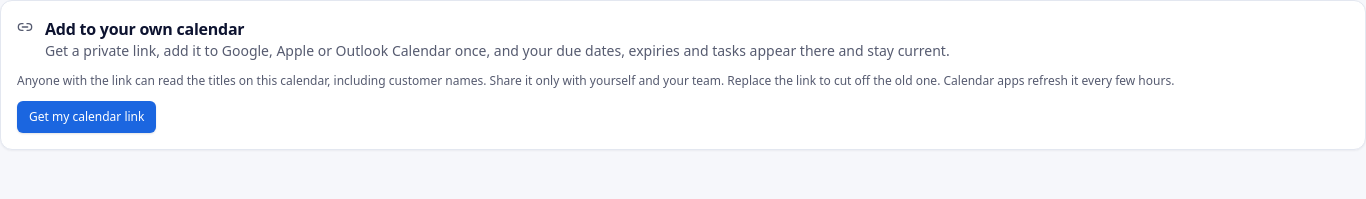
CalendarFeedCard › shows a refusal in words
The image size is (1366, 199).
Click the button "Get my calendar link": (87, 117) [17,101,156,133]
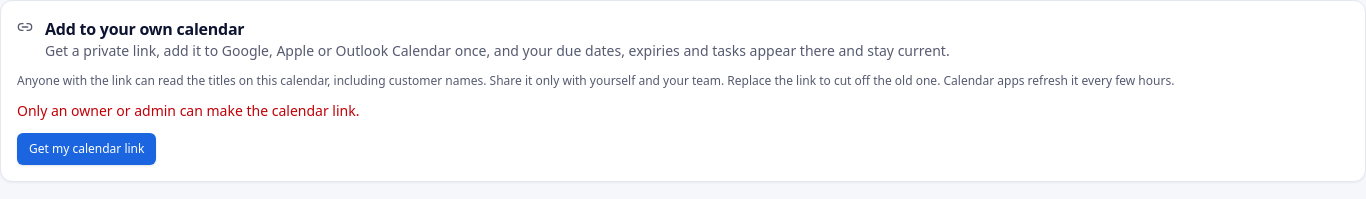
Result: the message shows "Only an owner or admin" at [17,101,359,120]
